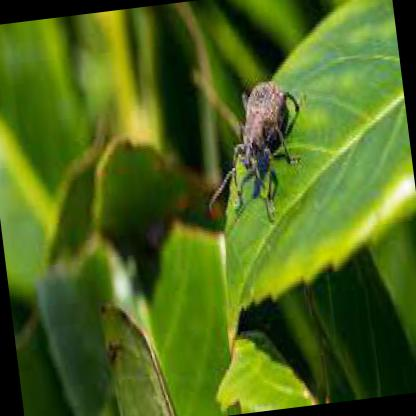ash weevil: (230, 84, 291, 189)
